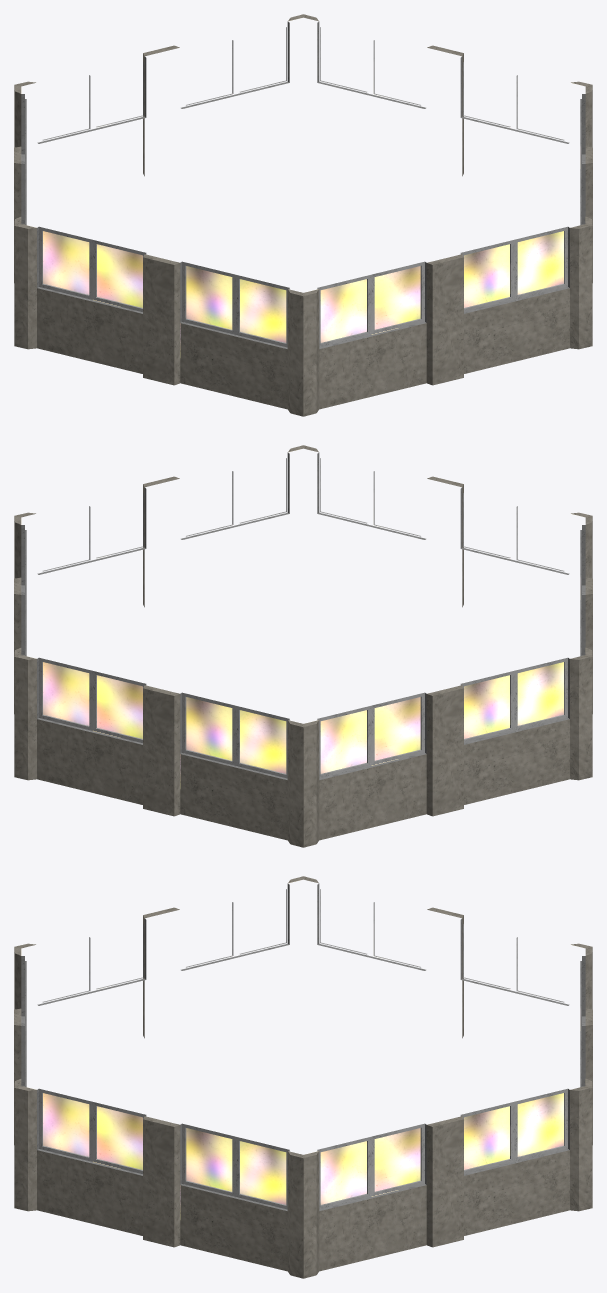
The model's file is BarLit.glb.
3 renders of one model, top to bottom at view 1: azimuth 30°, elevation 25°; view 2: azimuth 150°, elevation 25°; view 3: azimuth 270°, elevation 25°, orthographic.
Visible parts, largest first — view 1: Bar.001; view 2: Bar.001; view 3: Bar.001.
Boxes of the visible parts, x1=… form: Bar.001: x1=14, y1=14, x2=592, y2=416; Bar.001: x1=14, y1=445, x2=592, y2=847; Bar.001: x1=14, y1=876, x2=592, y2=1278.
Size of the model in its own units: 9.14 by 1.82 by 7.93.
1 material, 1 textured.
